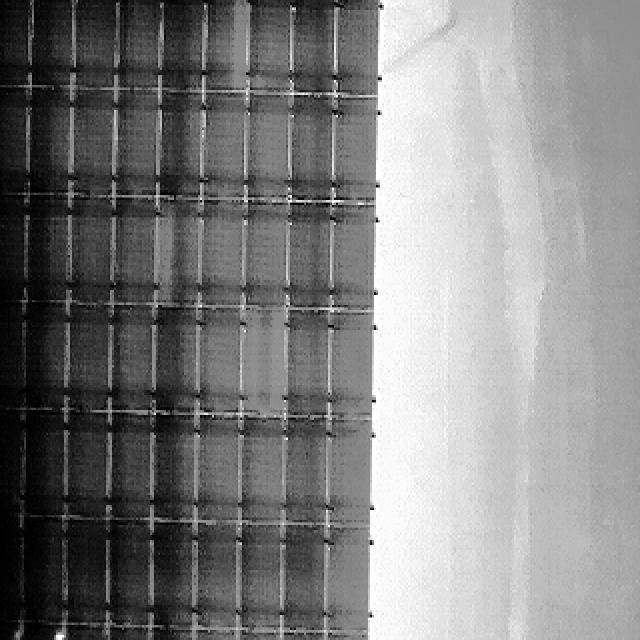PV-modules: (323, 419, 372, 529), (280, 308, 329, 418), (322, 529, 370, 639), (284, 202, 332, 310), (21, 304, 68, 413), (287, 90, 334, 198), (155, 87, 202, 195), (194, 306, 240, 415), (63, 195, 109, 304), (154, 200, 200, 308), (189, 518, 234, 628), (200, 202, 246, 309), (156, 307, 202, 414), (114, 90, 160, 197), (61, 304, 106, 413), (331, 312, 376, 421), (240, 418, 286, 524), (29, 89, 74, 197), (57, 514, 102, 622), (27, 194, 72, 301), (284, 418, 328, 527), (194, 418, 239, 524), (247, 200, 291, 308), (236, 522, 280, 630), (201, 92, 245, 200), (19, 513, 63, 621), (110, 305, 154, 412), (71, 89, 115, 196), (113, 200, 157, 307), (335, 96, 379, 203), (24, 414, 68, 521), (65, 415, 109, 522), (284, 528, 327, 637), (110, 520, 154, 626), (244, 308, 288, 414), (247, 95, 291, 201), (154, 417, 198, 523), (334, 203, 377, 311), (109, 416, 152, 523), (288, 0, 334, 98), (153, 518, 195, 625), (118, 0, 164, 95), (156, 0, 202, 95), (250, 0, 294, 98), (24, 0, 70, 92), (334, 0, 378, 95), (72, 0, 116, 92), (204, 0, 248, 90), (0, 83, 31, 192), (0, 194, 27, 303), (0, 0, 30, 92), (0, 304, 25, 414), (0, 513, 24, 624), (0, 411, 22, 520), (16, 624, 63, 640)
